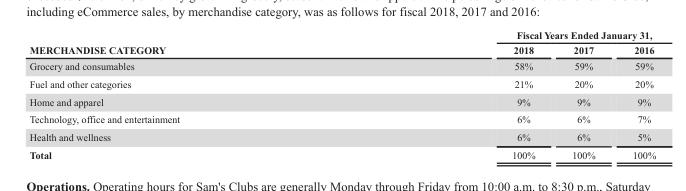table: (28, 28, 655, 159)
table column: (28, 28, 345, 159), (345, 28, 552, 159), (552, 28, 613, 159), (613, 28, 655, 159)
table column header: (28, 28, 655, 57)
table row: (28, 74, 655, 92), (28, 92, 655, 110), (28, 127, 655, 145), (28, 57, 655, 74), (28, 110, 655, 127), (28, 41, 655, 57), (28, 145, 655, 159), (28, 28, 655, 41)
table spanning cell: (28, 28, 345, 57), (345, 28, 655, 41)
